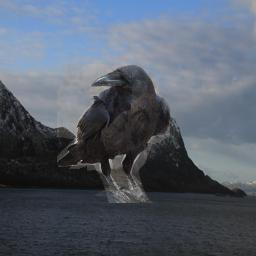Crow: (57, 64, 170, 203)
